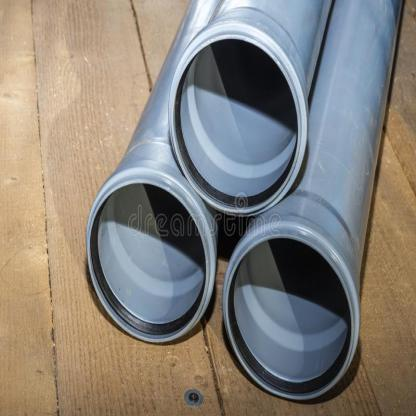pipe: (169, 24, 306, 216), (222, 224, 360, 402), (86, 174, 216, 344)
